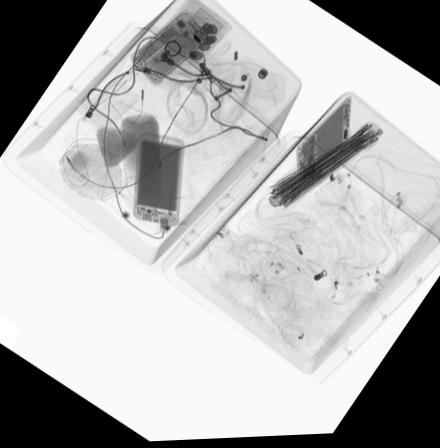Powerbank: (135, 131, 187, 228)
